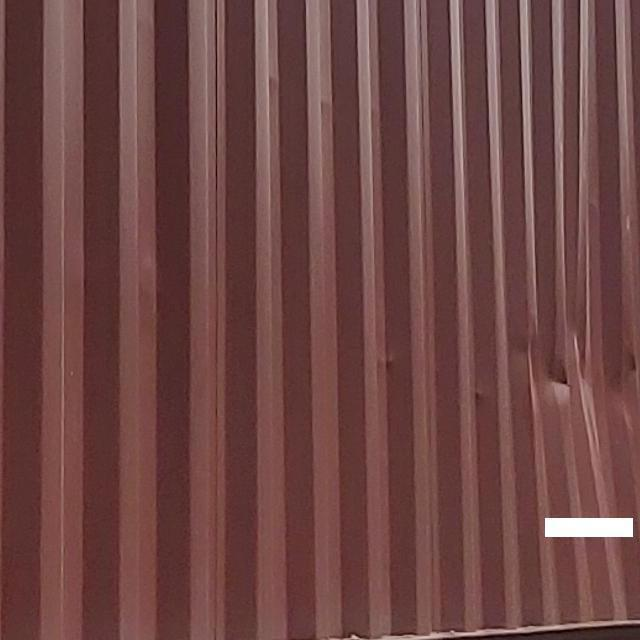dent: (519, 179, 640, 481)
